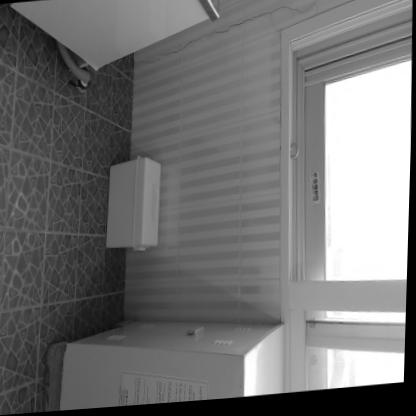DDL: (104, 157, 162, 251)
